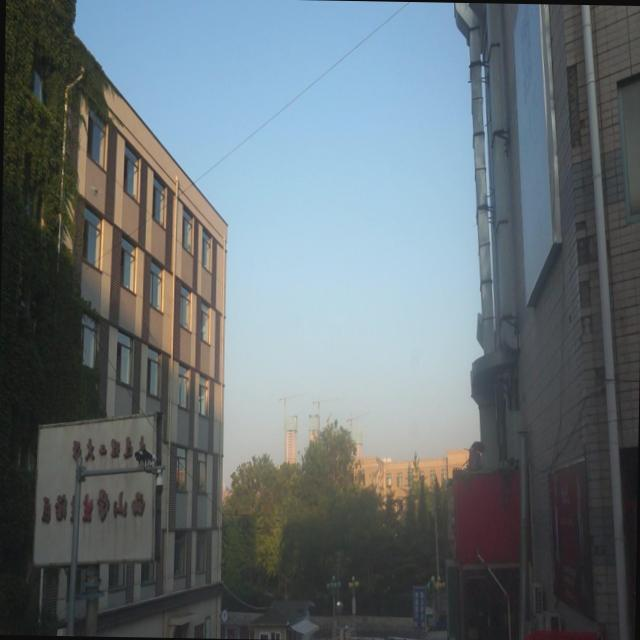drone: (89, 182, 100, 200)
